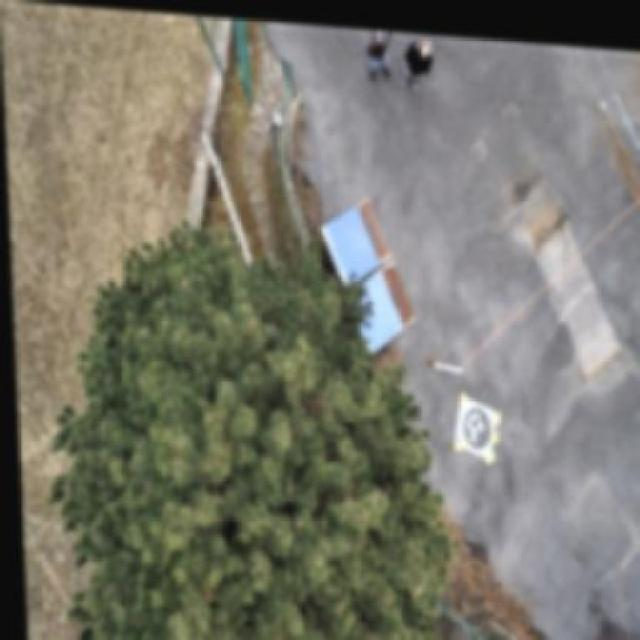Person: (391, 25, 438, 92), (363, 23, 391, 79)
